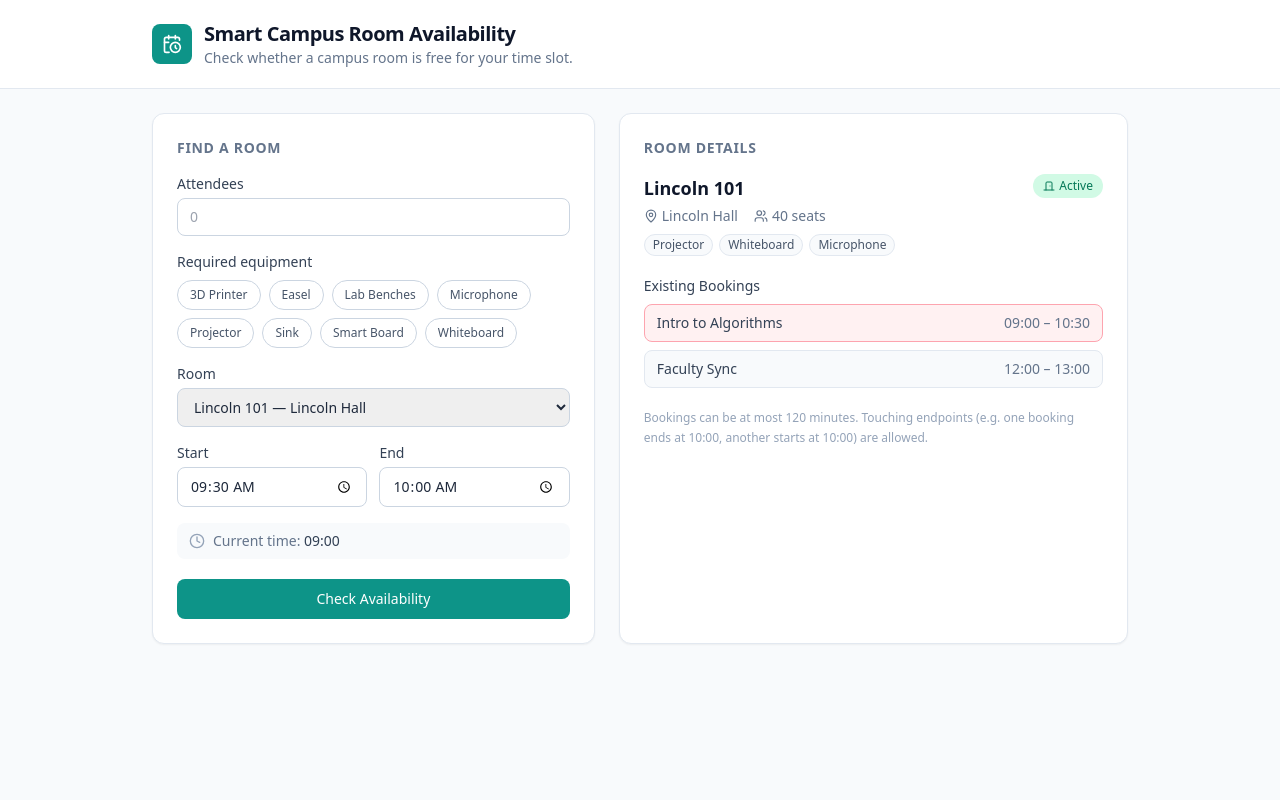
Test case: RoomChecker UI — explain availability › U6-f2: explain button is re-enabled after cancelling a stale request
Note: Start an availability check and an explanation request.
Step 1. Click the button "Check Availability" → [373, 599], box left=177, top=579, right=570, bottom=619
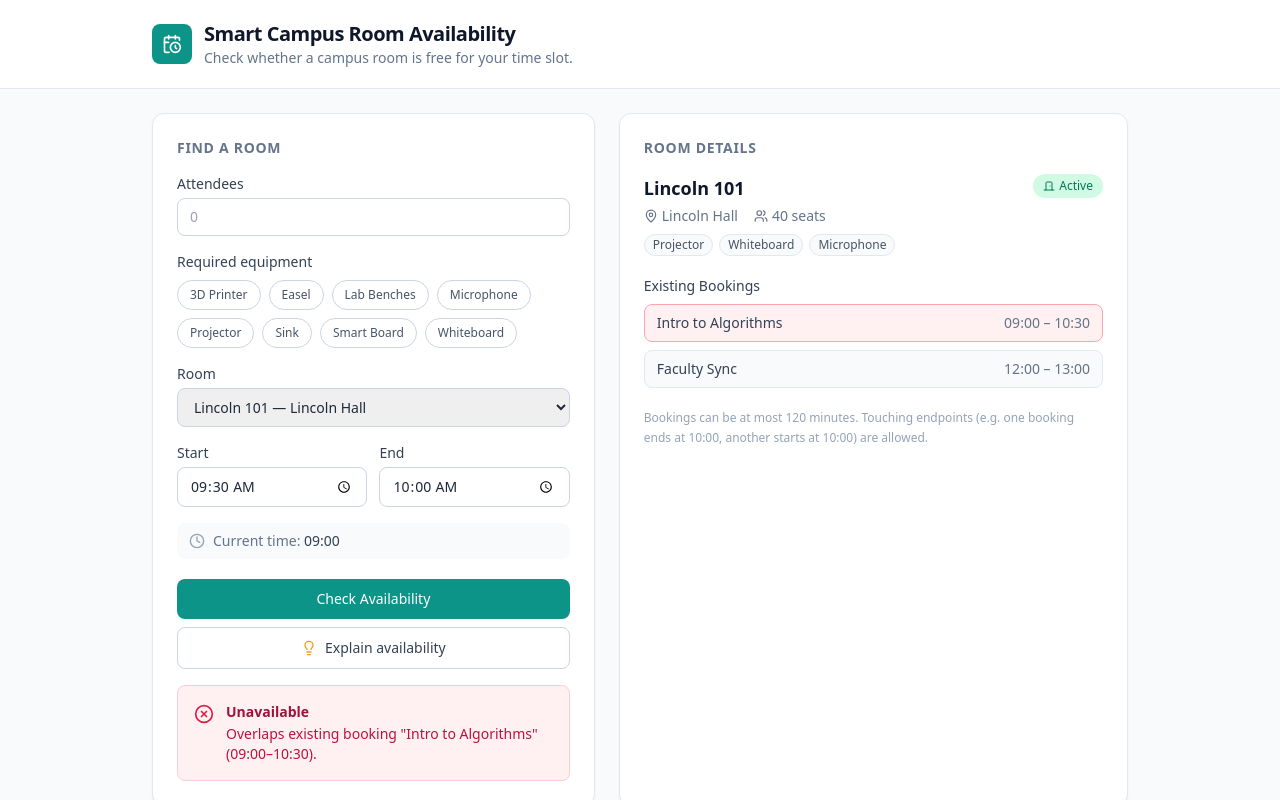
Step 2. Click the button "Explain availability" → [373, 648], box left=177, top=627, right=570, bottom=669
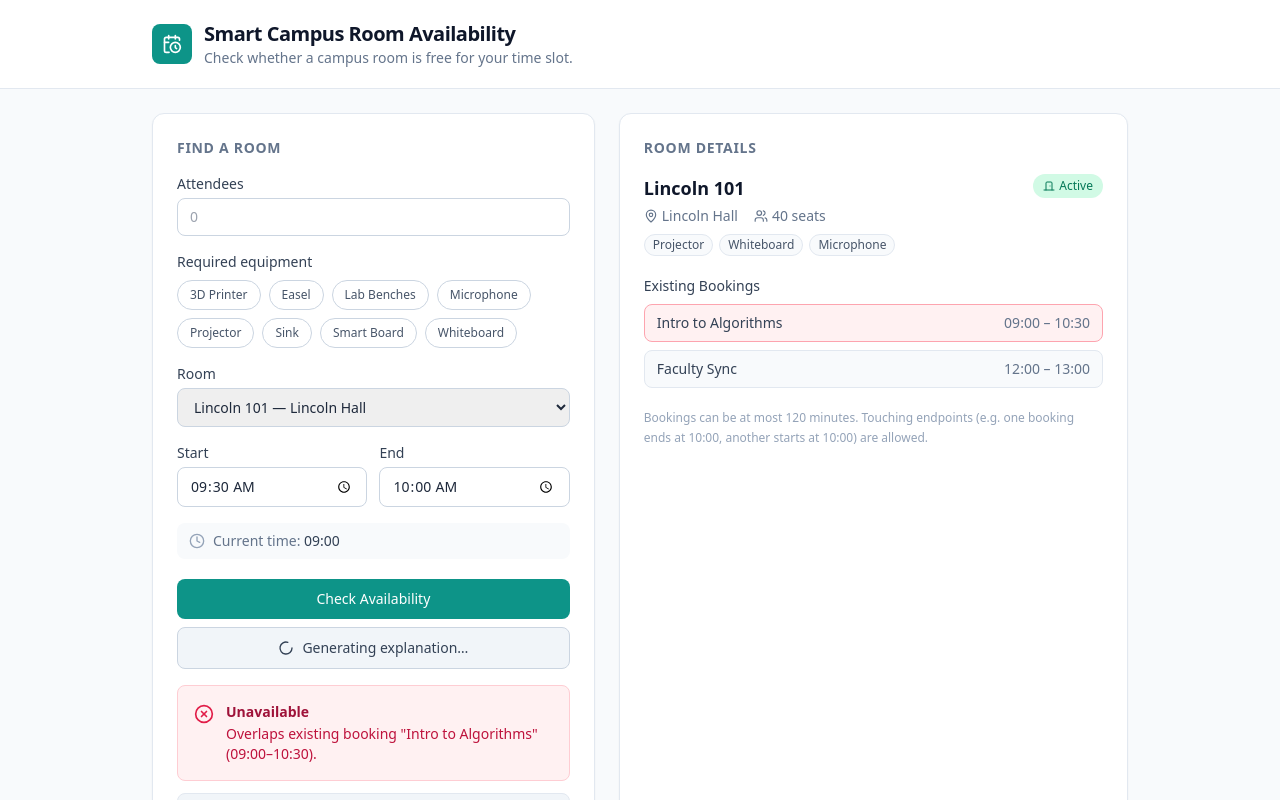
Expected: the button "Generating explanation…" is disabled, left=177, top=627, right=570, bottom=669
Note: While the explanation is loading, change the start time to invalidate it.
Step 3. Replace the text in the 1st time field showing "09:30" with "10:30" → [272, 487], box left=177, top=467, right=367, bottom=507
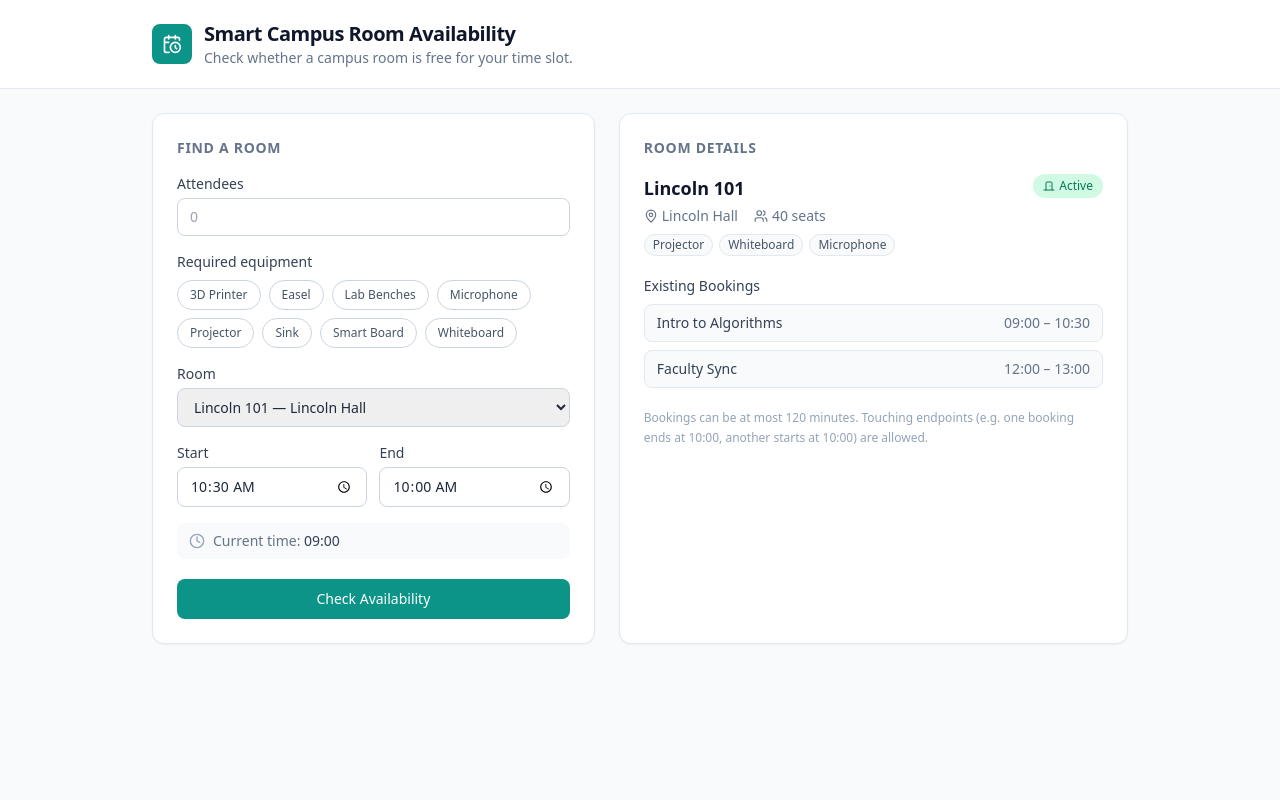
Note: Perform a new availability check for the changed time.
Step 4. Click the button "Check Availability" → [373, 599], box left=177, top=579, right=570, bottom=619
Wait 100 ms
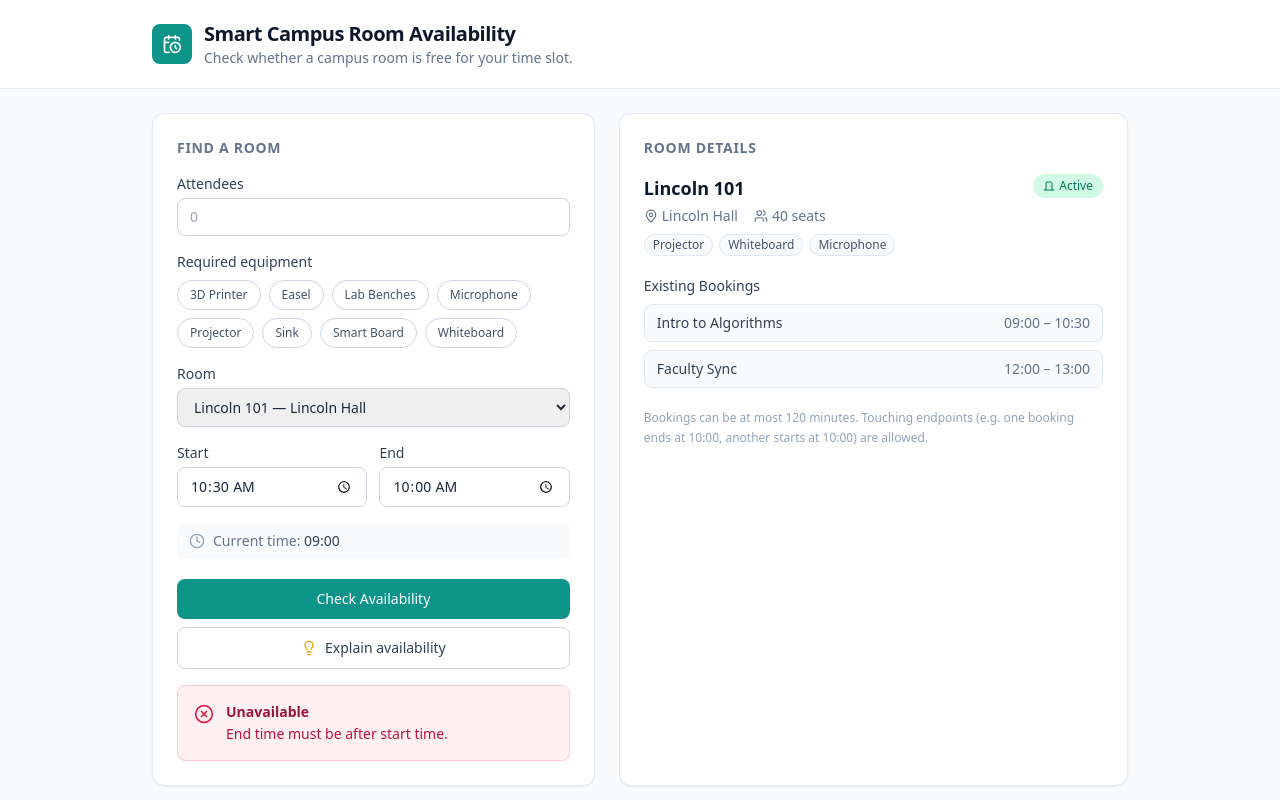
Expected: the button "Explain availability" is enabled, left=177, top=627, right=570, bottom=669
